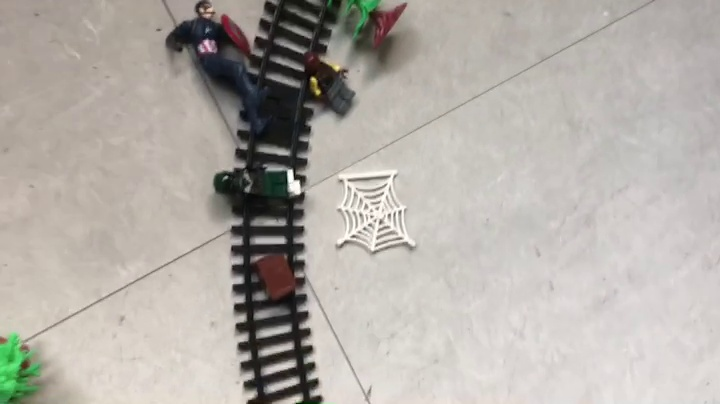box: (165, 1, 276, 130), (297, 50, 356, 118), (253, 252, 298, 304)
people: (213, 164, 304, 212)
web: (334, 169, 417, 252)
